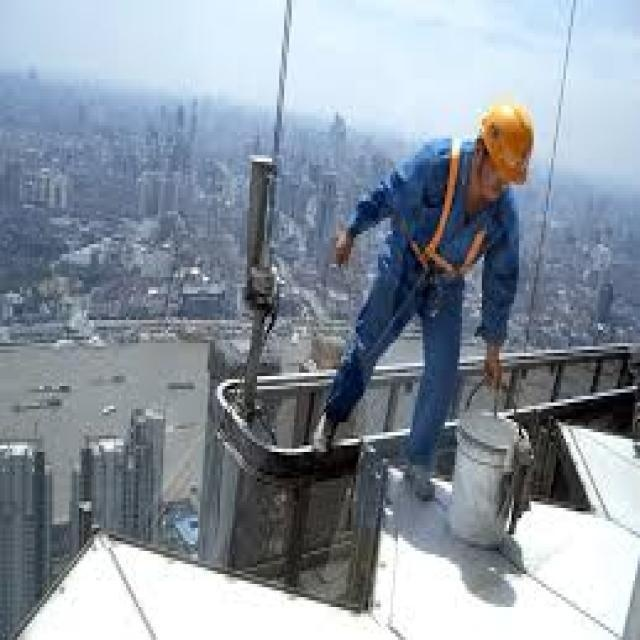Arnes_seguridad: (407, 134, 488, 282)
